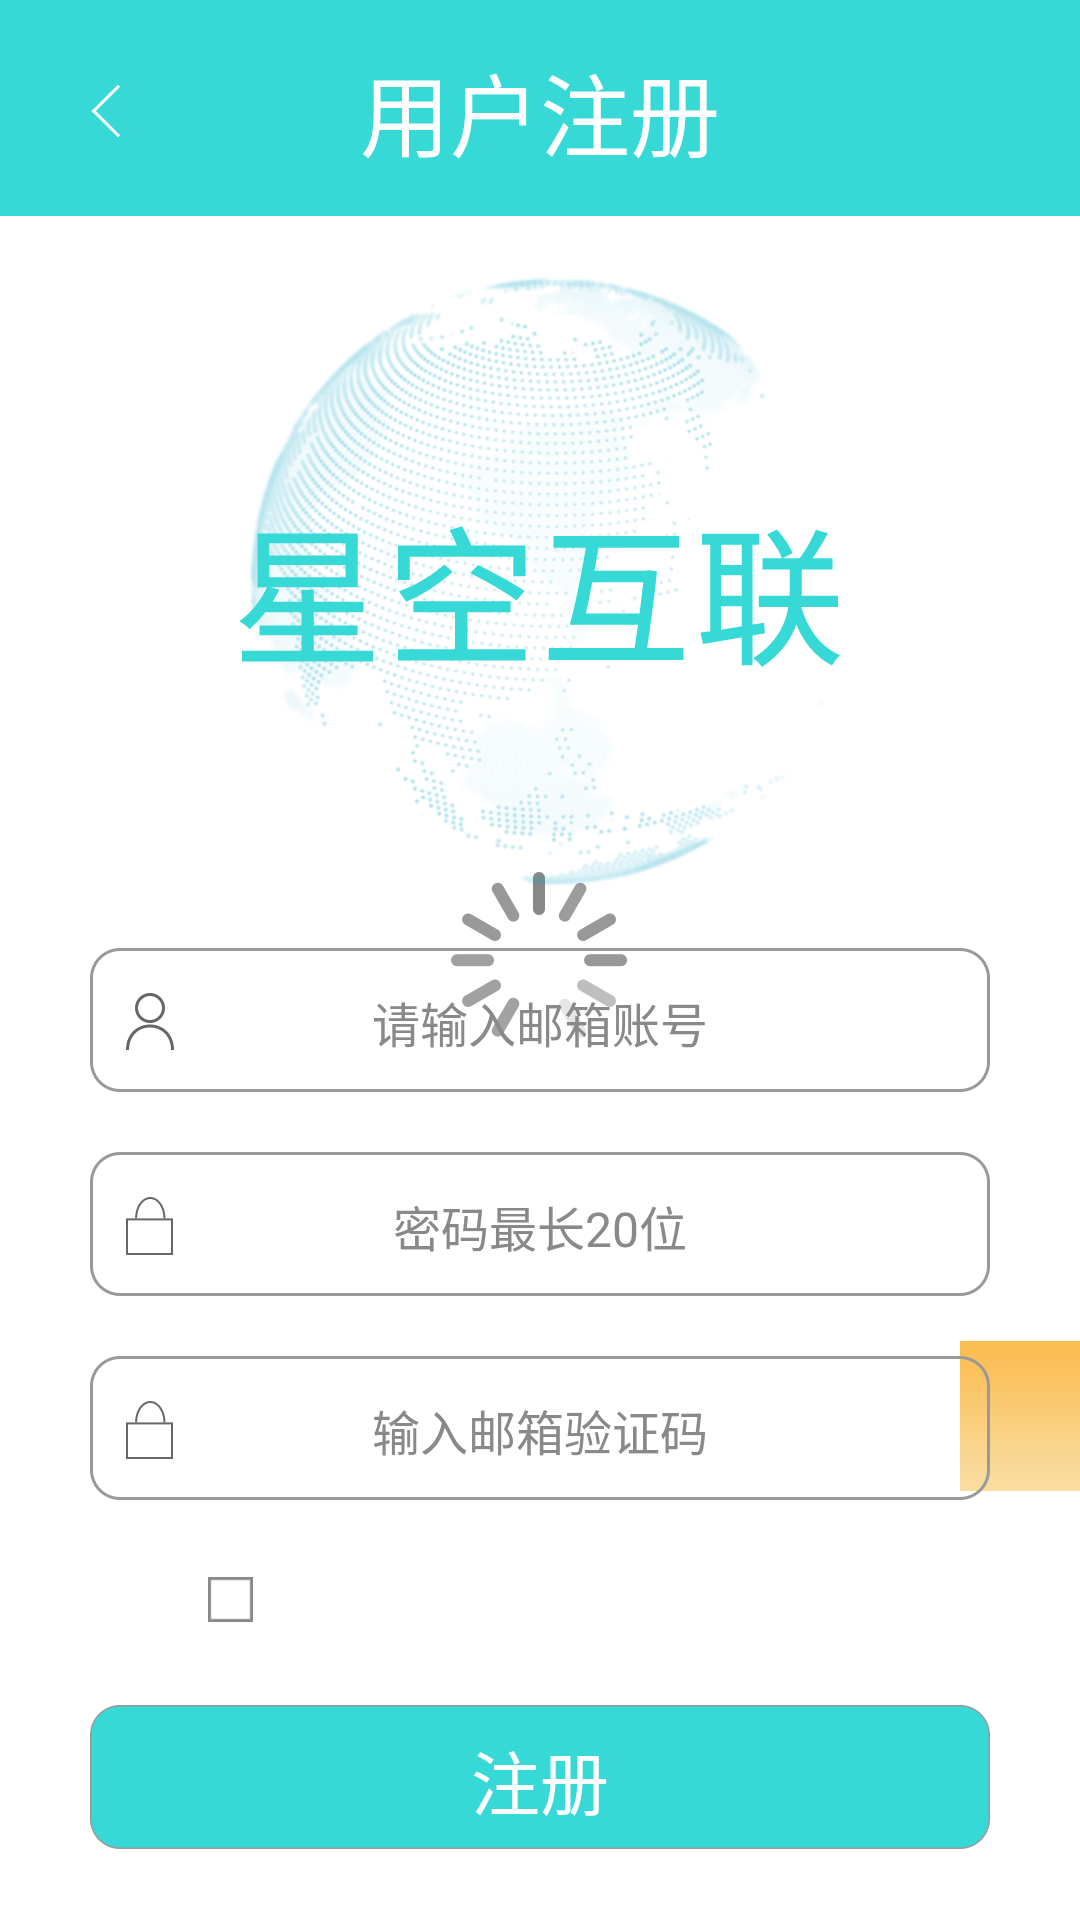

Where icons sit on this 1080*1920 app screen, as (x1, y1, x2, y2):
checkbox select: (208, 1577, 253, 1622)
return: (91, 85, 120, 137)
